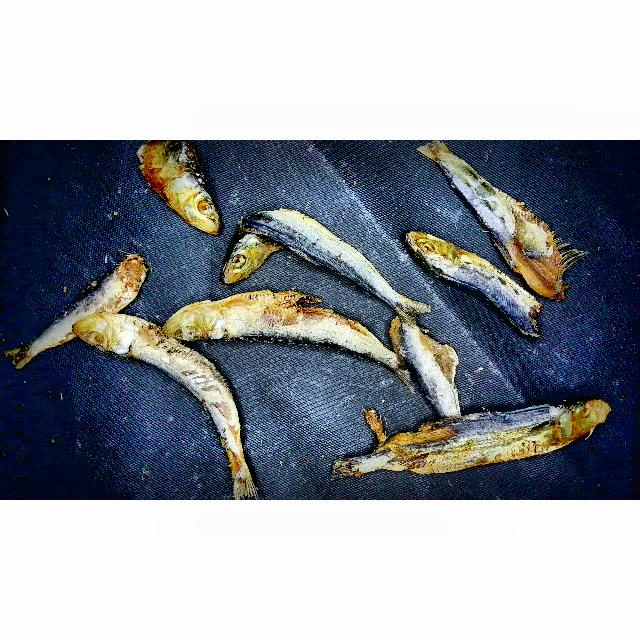Rejected_Body: (451, 173, 570, 307), (135, 322, 245, 456), (389, 403, 562, 488), (209, 287, 379, 369), (237, 205, 381, 288), (389, 316, 462, 416), (464, 255, 544, 341), (85, 248, 149, 314)
Rejected_Head: (130, 140, 223, 235), (220, 207, 292, 285), (540, 388, 616, 455), (71, 310, 162, 364)
Rejected_Tail: (322, 431, 404, 488), (227, 451, 256, 500)
